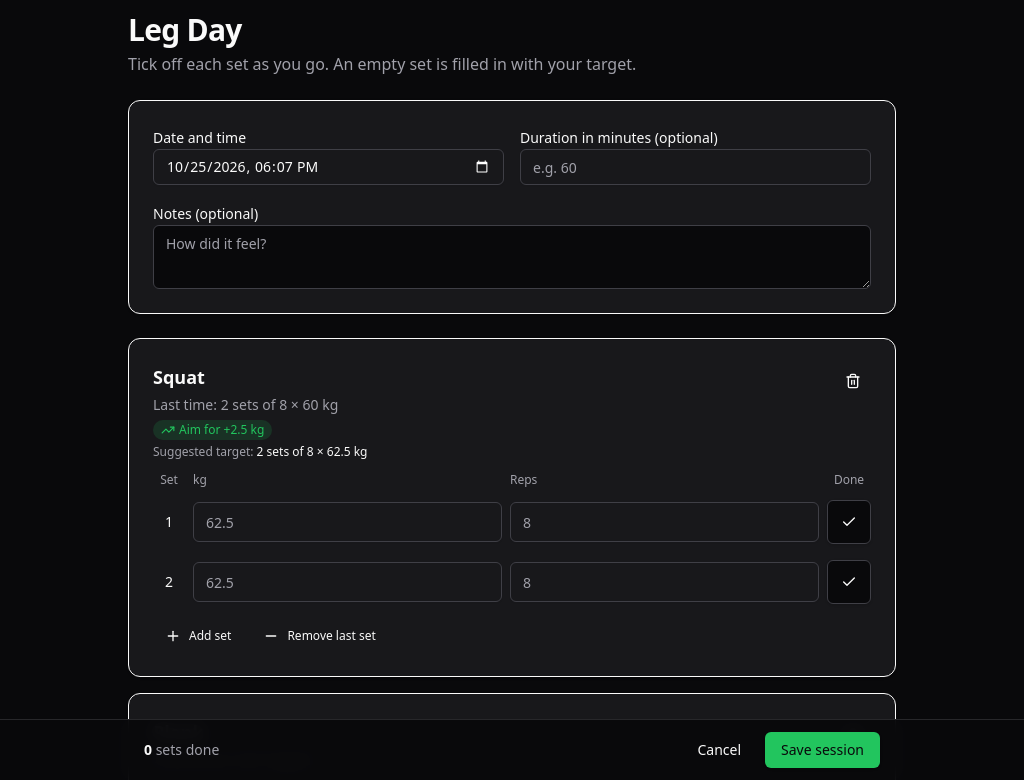
Test: LogSessionPage › aims 2.5 kg higher after a session where every set reached its reps, and starts a rest timer
Expected: the text "Aim for +2.5 kg" is shown, top-left (153, 420), bottom-right (272, 440)
Click the button named "Complete set 1 of Squat".
click(849, 522)  # box top-left (827, 500), bottom-right (871, 544)
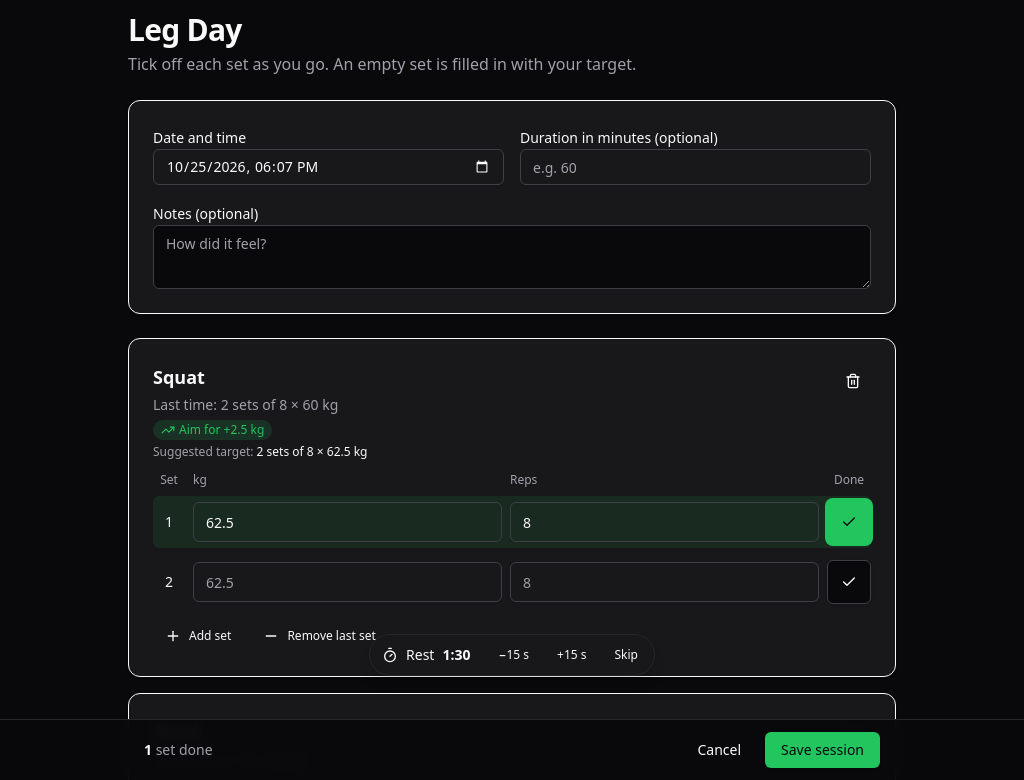
Expected: the field named "Weight in kg for set 1 of Squat" holds "62.5", top-left (193, 502), bottom-right (502, 542)
Expected: the text "1:30" is shown, top-left (442, 645), bottom-right (470, 664)
Click the button "Skip".
click(626, 655)  # box top-left (602, 639), bottom-right (650, 671)
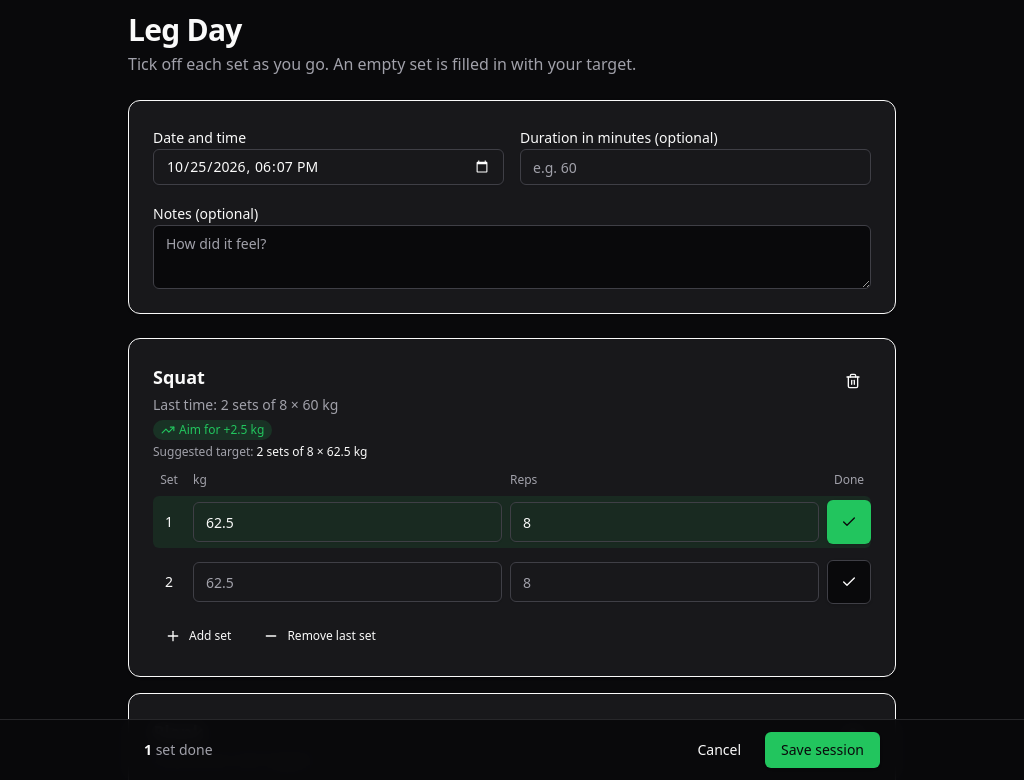
Expected: the text "1:30" is gone
